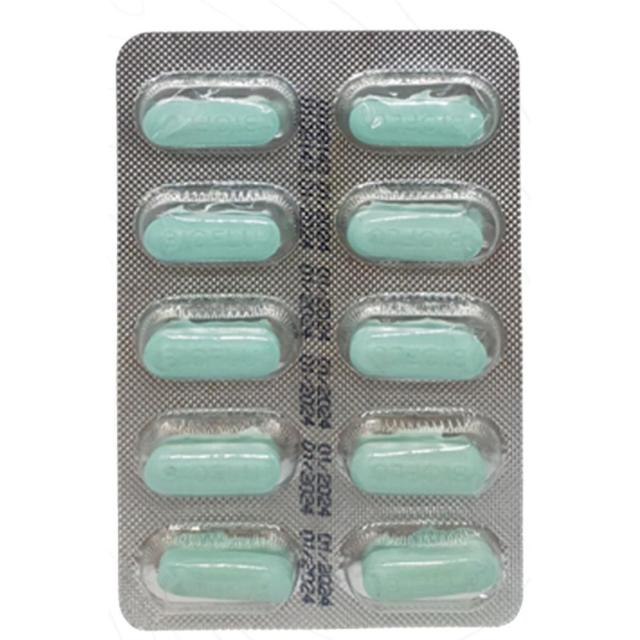blister: (108, 12, 528, 632)
